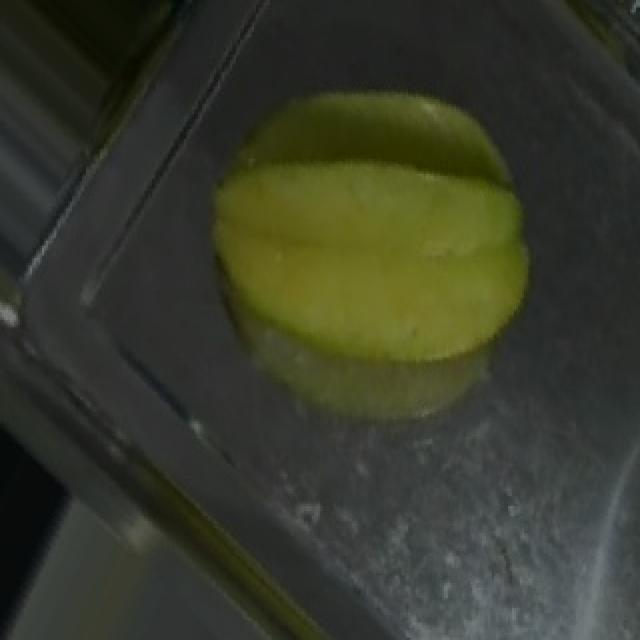fruit: (116, 0, 574, 449)
